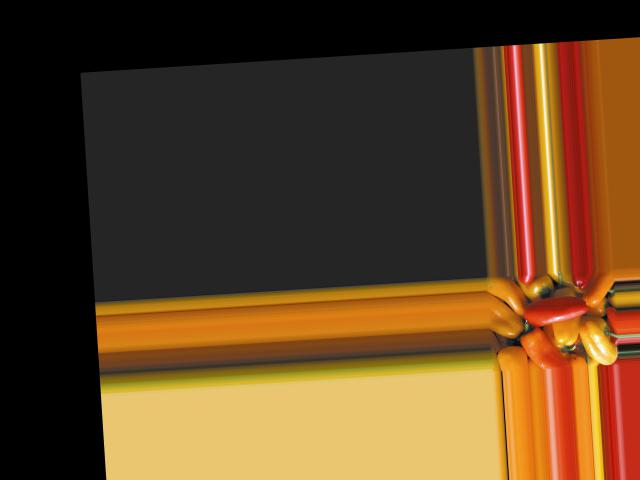bell_pepper: (576, 319, 619, 365)
